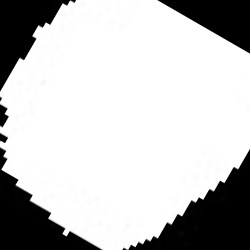spot: (1, 2, 247, 248)
